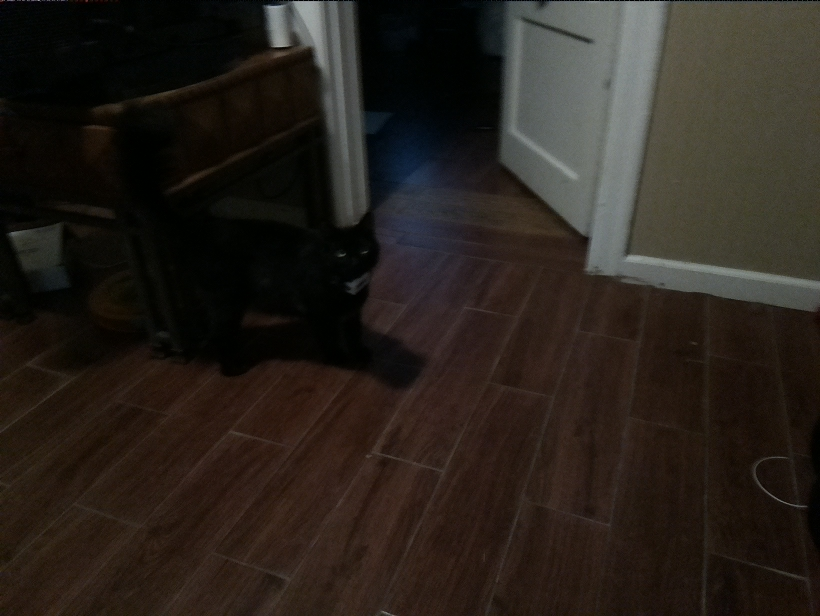cat: (149, 212, 395, 376)
